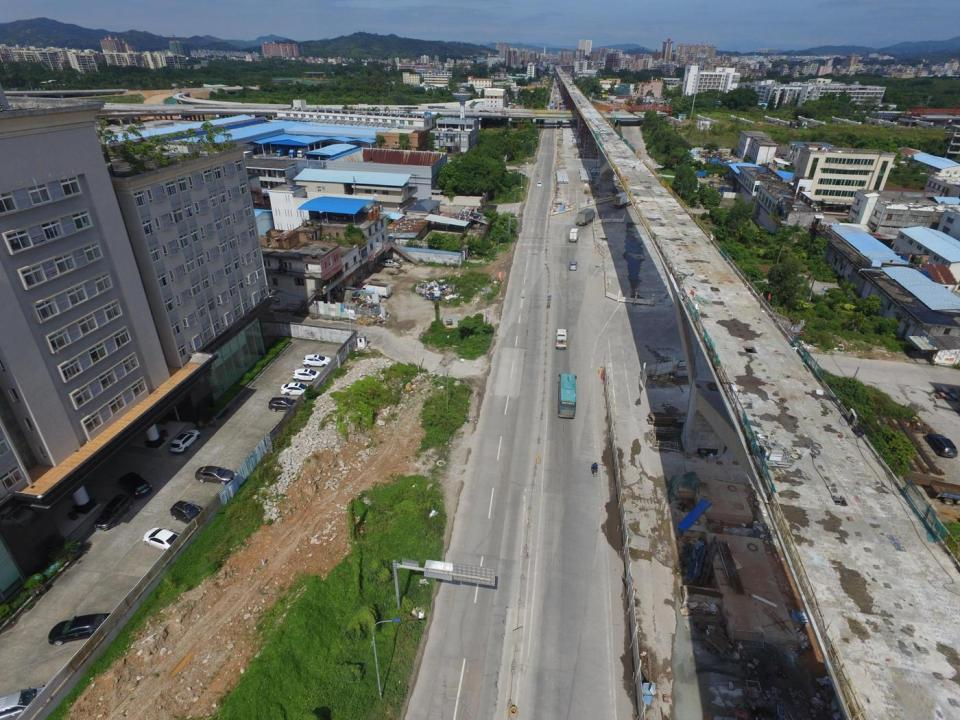bus: (558, 373, 576, 418)
car: (48, 612, 113, 646), (0, 686, 56, 718), (94, 494, 132, 532), (143, 528, 180, 552), (170, 499, 204, 525), (117, 472, 150, 497), (925, 433, 957, 458), (195, 465, 236, 484), (170, 430, 200, 454), (292, 368, 321, 383), (269, 398, 298, 413), (280, 383, 310, 396), (302, 354, 330, 367), (378, 258, 402, 269), (570, 261, 578, 270), (708, 181, 714, 187), (537, 182, 542, 187)
truck: (356, 280, 389, 300), (929, 479, 955, 504), (613, 190, 636, 209), (576, 207, 596, 226), (556, 328, 567, 350), (569, 228, 580, 242), (718, 186, 737, 193), (693, 170, 707, 178)
